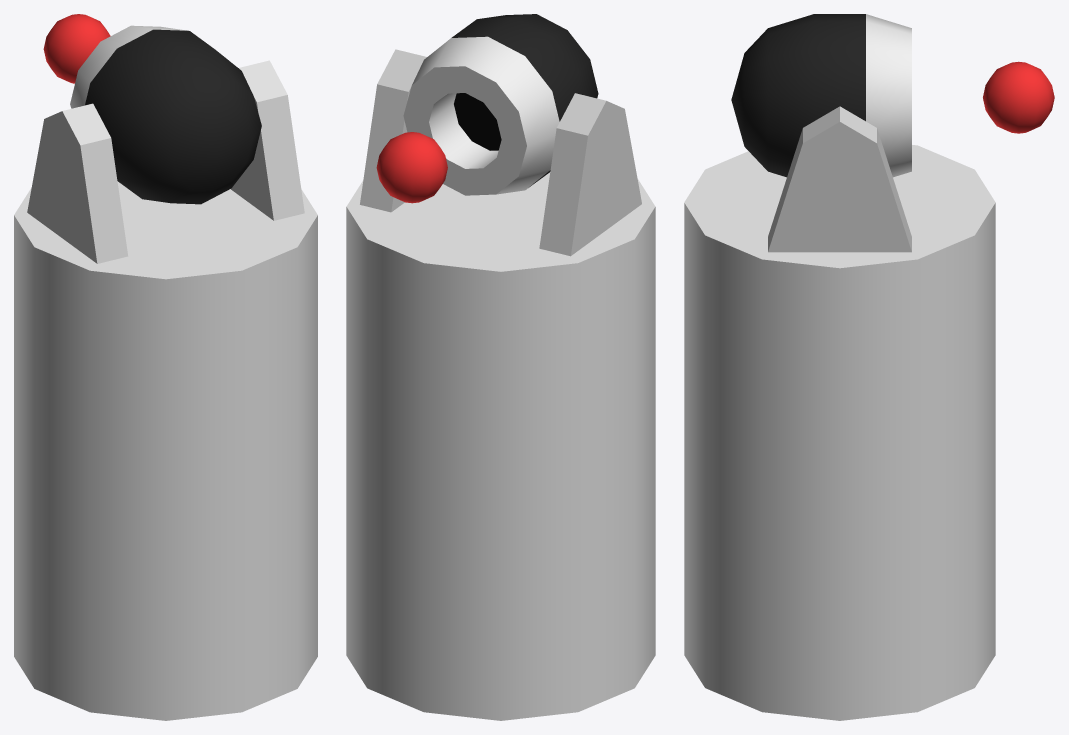
File: Obstacle_Cannon.fbx
3 views of the same model, side by side, from view 1: azimuth 30°, elevation 25°; view 2: azimuth 150°, elevation 25°; view 3: azimuth 270°, elevation 25° (orthographic). The views are drawn at different scales.
Visible parts, largest first — view 1: Cannon_Base, Canon_Head, Canon_Holders, Cannon_Ball; view 2: Cannon_Base, Canon_Head, Canon_Holders, Cannon_Ball; view 3: Cannon_Base, Canon_Head, Canon_Holders, Cannon_Ball.
Part boxes in pixels (x1,y1,x2,y2): Cannon_Base: [14, 181, 317, 720]; Canon_Head: [70, 25, 261, 204]; Canon_Holders: [27, 60, 304, 263]; Cannon_Ball: [43, 14, 110, 83]; Cannon_Base: [346, 172, 655, 720]; Canon_Head: [403, 14, 598, 195]; Canon_Holders: [360, 49, 641, 256]; Cannon_Ball: [376, 132, 447, 203]; Cannon_Base: [684, 145, 995, 720]; Canon_Head: [731, 14, 911, 177]; Canon_Holders: [768, 106, 911, 252]; Cannon_Ball: [983, 61, 1054, 133].
Size of the model in its own units: 4.33 by 9.71 by 5.15.
